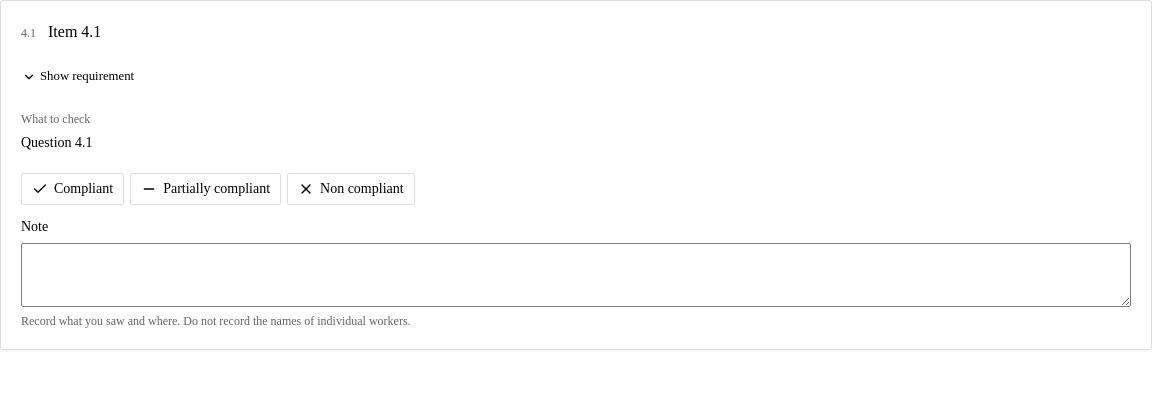
Test case: ItemCard (AC-6) › keeps the requirement behind a disclosure that opens on its button
Expected: the text "Records kept" is not shown
Click the button "Show requirement".
click(78, 77)  # box [15,63,141,91]
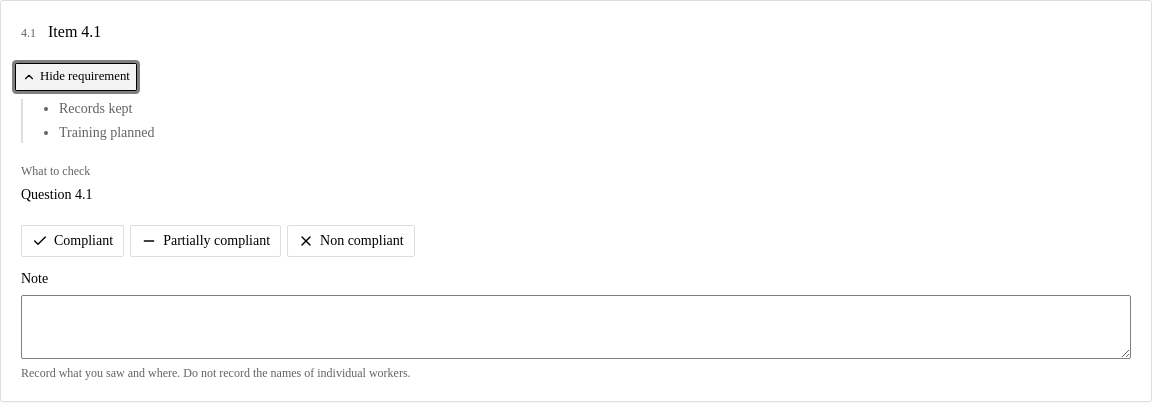
Result: the button "Hide requirement" is expanded at [15,63,137,91]
Result: the list is shown at [59,101,154,140]
Result: the list item "Records kept" is shown at [59,101,132,116]
